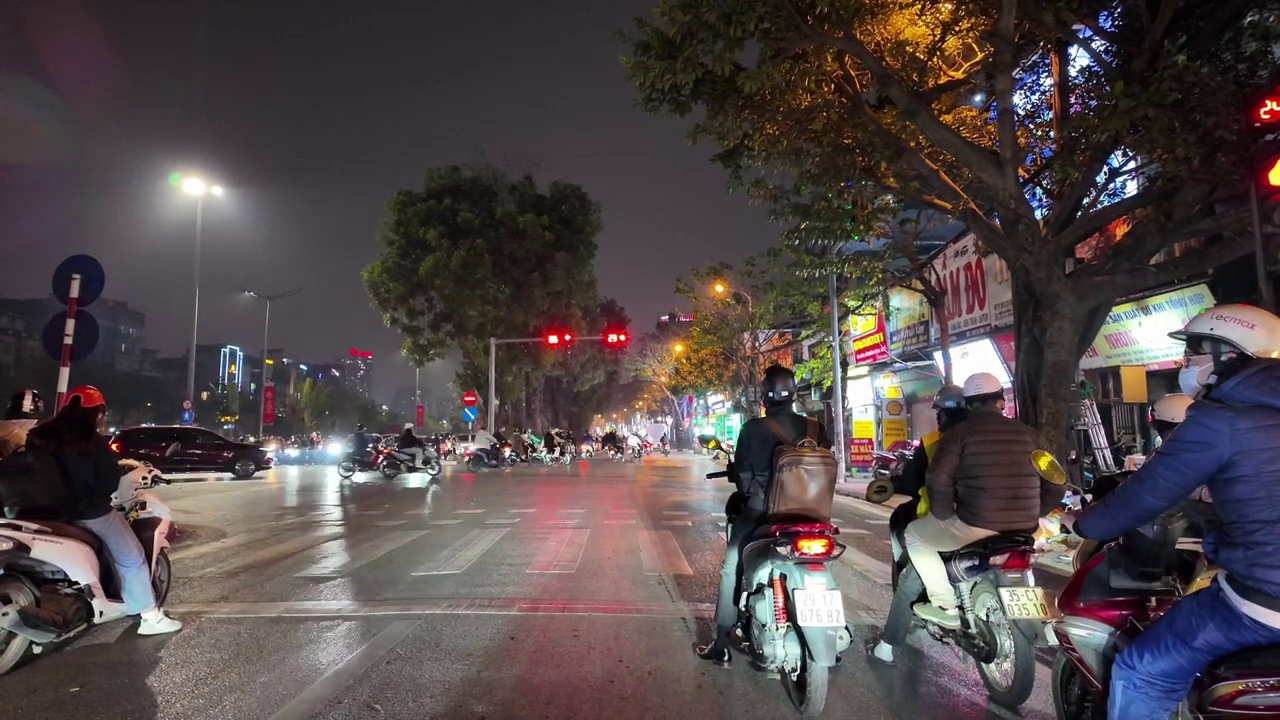acesa: (174, 171, 219, 204), (706, 277, 732, 301), (233, 287, 257, 310), (1270, 161, 1279, 190)
